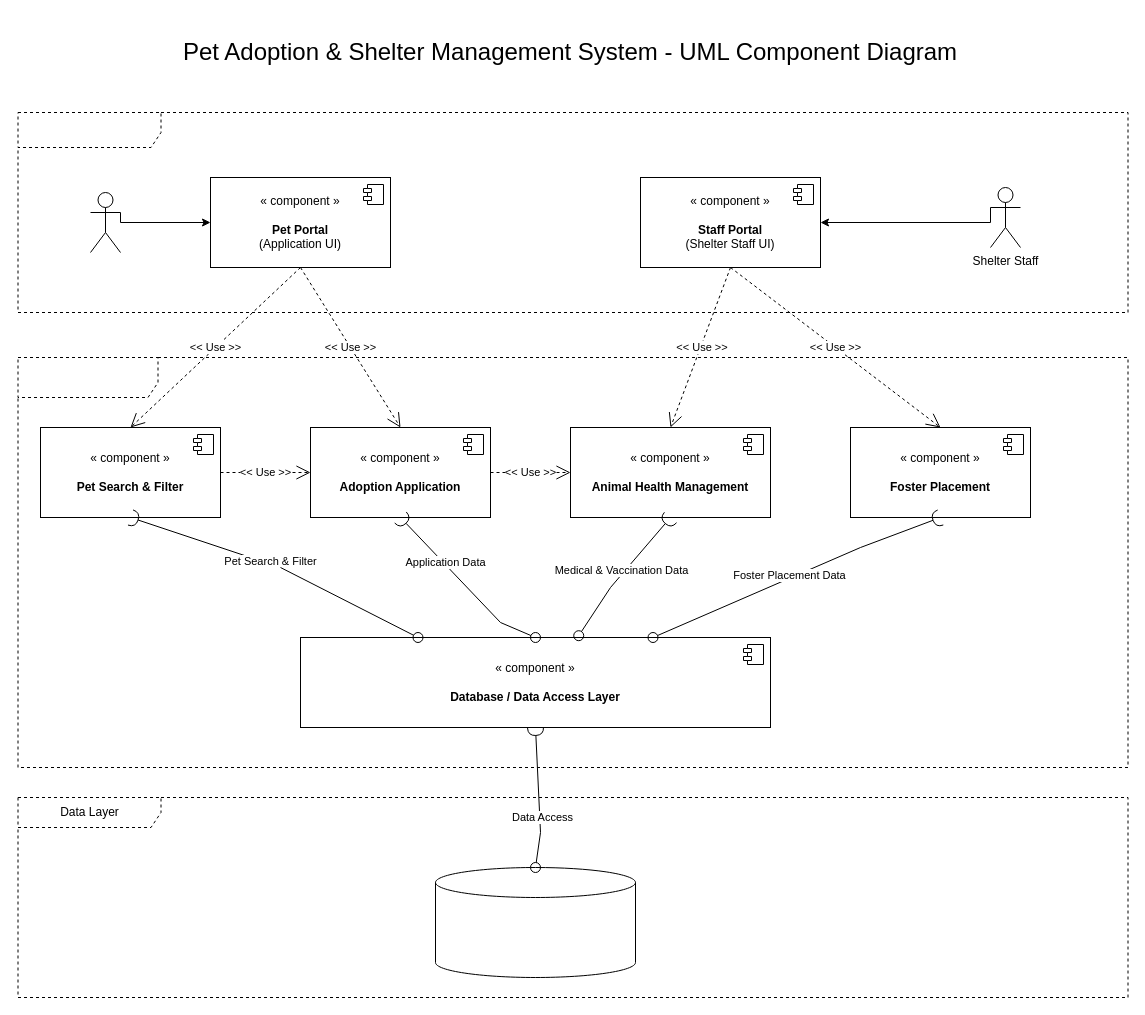
Image size: 1145x1015. Some labels were removed from this diagram. Each missing label, with the box of its shape:
<< database >> Pet Adoption DB: (434, 866, 636, 978)
Adoption Applicant: (90, 192, 120, 252)
Business Layer: (17, 356, 1128, 768)
Presentation Layer: (17, 112, 1128, 312)
